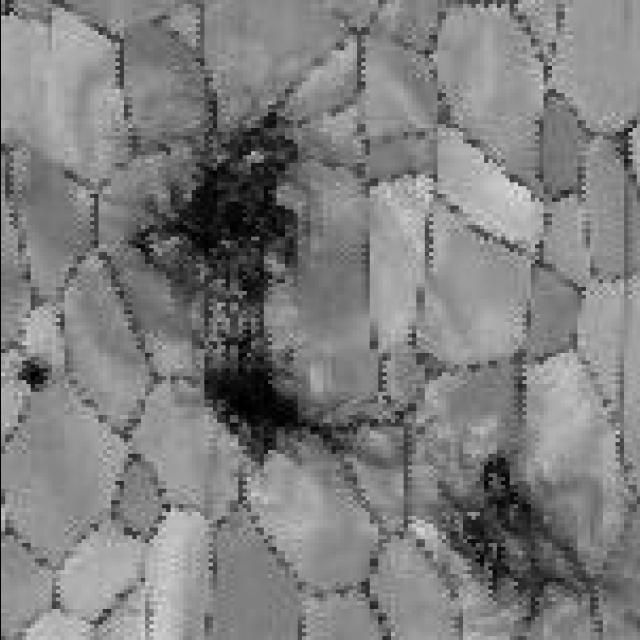good_void: (126, 106, 341, 470), (416, 452, 606, 629), (15, 354, 55, 394)
